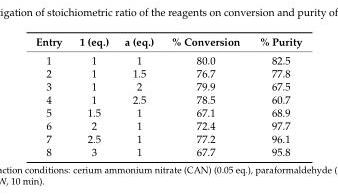table: (34, 34, 301, 158)
table column: (162, 34, 249, 158), (249, 34, 301, 158), (70, 34, 116, 158), (116, 34, 162, 158), (34, 34, 70, 158)
table column header: (34, 34, 301, 50)
table row: (34, 34, 301, 50), (34, 50, 301, 66), (34, 144, 301, 158), (34, 66, 301, 79), (34, 79, 301, 92), (34, 92, 301, 105), (34, 105, 301, 118), (34, 118, 301, 131), (34, 131, 301, 144)
